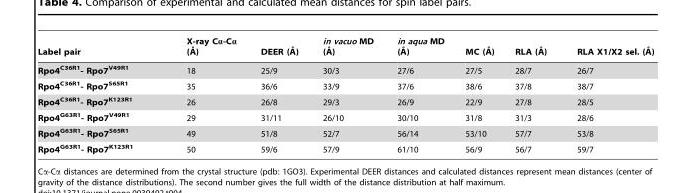table: (37, 36, 653, 153)
table column: (37, 36, 159, 153), (561, 36, 653, 153), (159, 36, 247, 153), (309, 36, 384, 153), (384, 36, 454, 153), (247, 36, 309, 153), (503, 36, 561, 153), (454, 36, 503, 153)
table column header: (37, 36, 653, 60)
table row: (37, 36, 653, 60), (37, 60, 653, 77), (37, 77, 653, 93), (37, 93, 653, 109), (37, 124, 653, 140), (37, 109, 653, 124), (37, 140, 653, 153)
